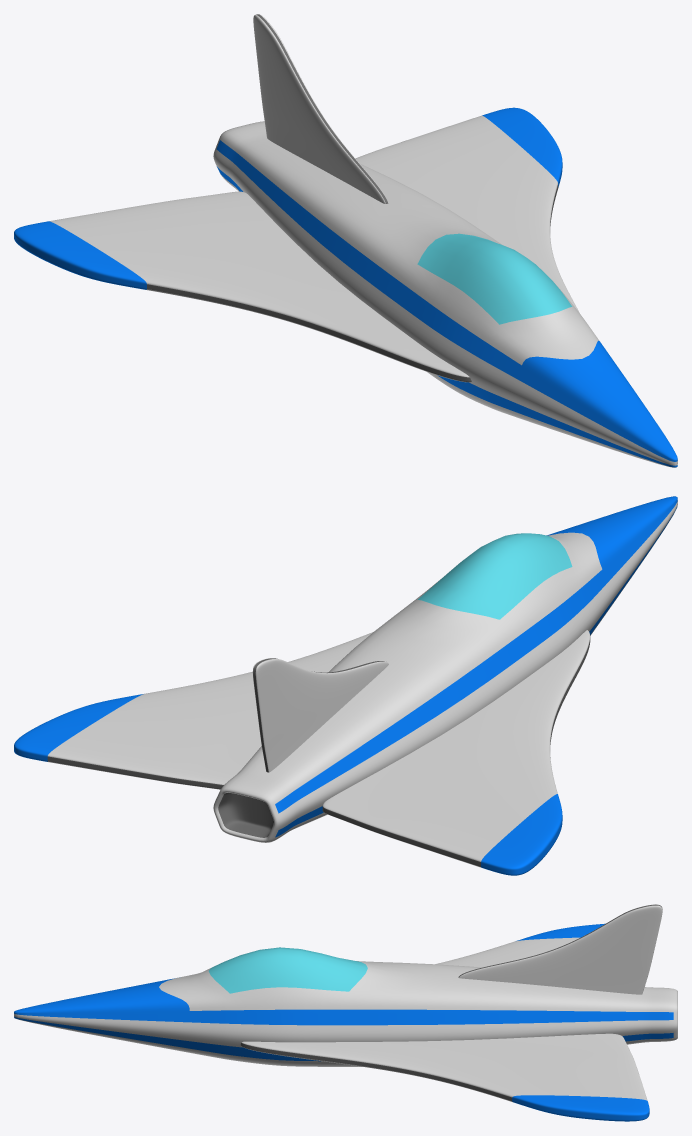
3 renders of one model, top to bottom at view 1: azimuth 30°, elevation 25°; view 2: azimuth 150°, elevation 25°; view 3: azimuth 270°, elevation 25°, orthographic. The views are drawn at different scales.
Visible parts, largest first — view 1: Cube.021, Cube.003, Cube.002, Cube.004; view 2: Cube.021, Cube.003, Cube.002, Cube.004; view 3: Cube.021, Cube.002, Cube.004, Cube.003.
Part boxes in pixels (left/top/right/bottom): Cube.021: left=213, top=121, right=677, bottom=467; Cube.003: left=14, top=191, right=471, bottom=382; Cube.002: left=355, top=107, right=579, bottom=312; Cube.004: left=253, top=14, right=388, bottom=203; Cube.021: left=213, top=496, right=677, bottom=842; Cube.003: left=322, top=630, right=590, bottom=875; Cube.002: left=14, top=632, right=373, bottom=789; Cube.004: left=252, top=658, right=388, bottom=772; Cube.021: left=14, top=947, right=677, bottom=1066; Cube.002: left=240, top=1033, right=649, bottom=1121; Cube.004: left=458, top=904, right=662, bottom=994; Cube.003: left=435, top=923, right=605, bottom=967.
Bounding box in the file's own units: 1717 × 619 × 2510.
